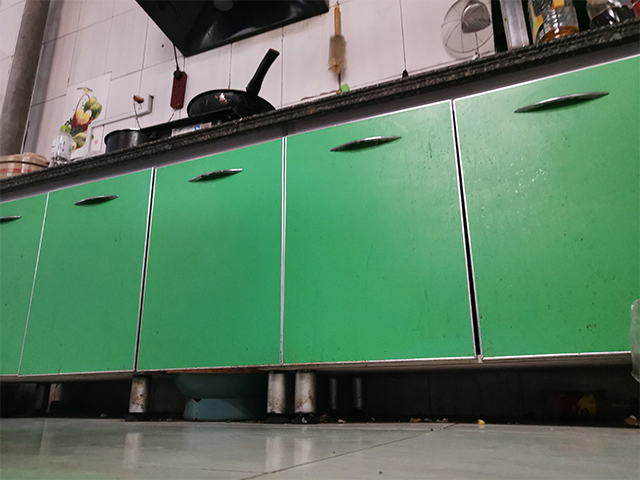cabinet: (1, 14, 640, 425)
